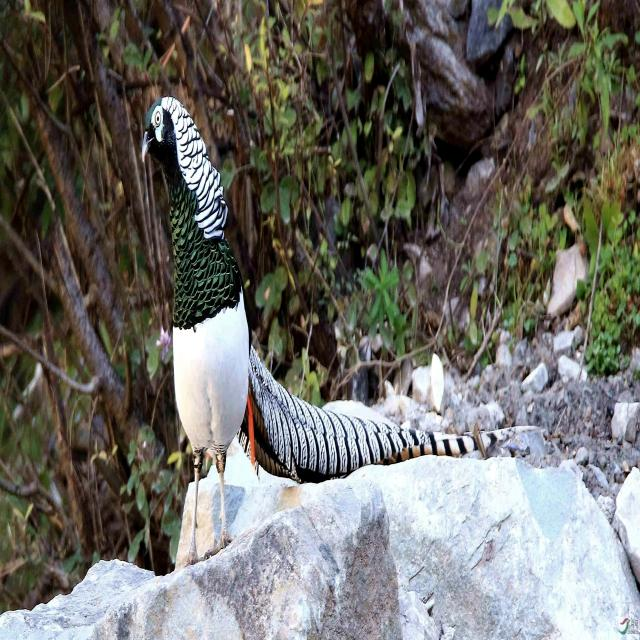Chrysolophus amherstiae: (238, 349, 540, 484)
